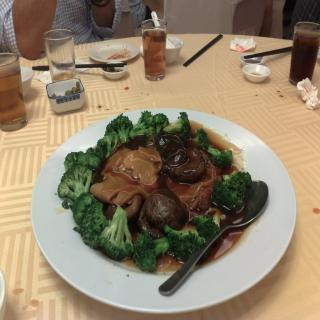Broccoli: (56, 109, 254, 274)
